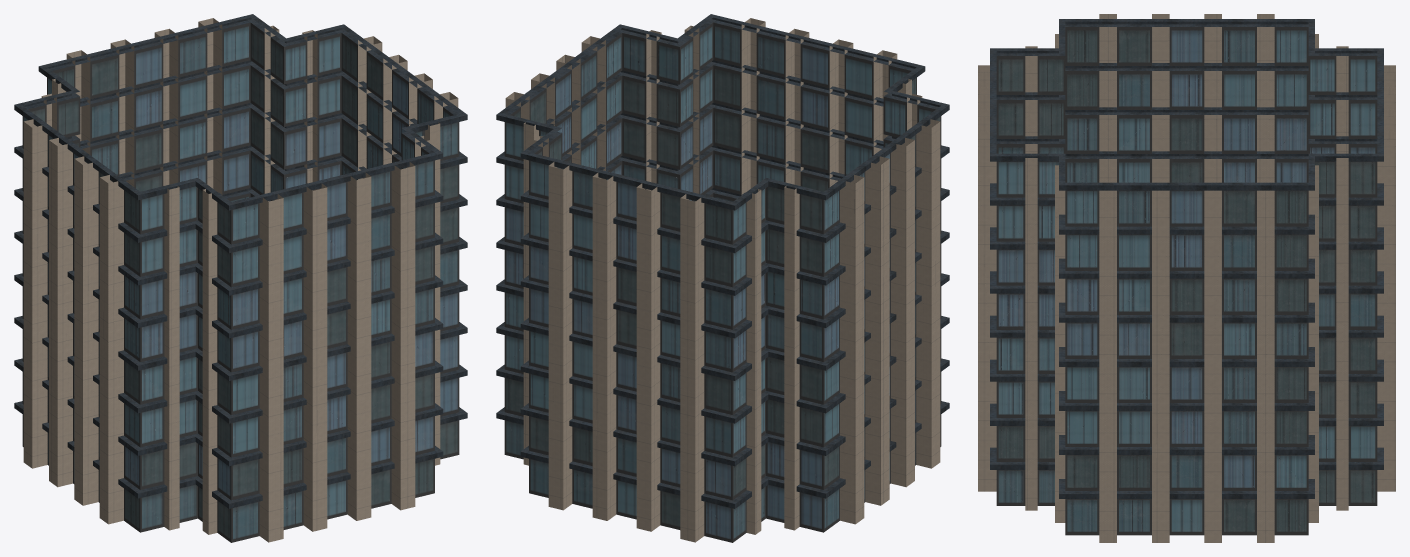
The model's file is jctBld24_B_mdl_low.fbx.
3 views of the same model, side by side, from view 1: azimuth 30°, elevation 25°; view 2: azimuth 150°, elevation 25°; view 3: azimuth 270°, elevation 25° (orthographic). The views are drawn at different scales.
Visible parts, largest first — view 1: jctBld24_B_mdl_low; view 2: jctBld24_B_mdl_low; view 3: jctBld24_B_mdl_low.
Boxes of the visible parts, bbox=[...] form: jctBld24_B_mdl_low: bbox=[14, 14, 467, 542]; jctBld24_B_mdl_low: bbox=[496, 14, 949, 542]; jctBld24_B_mdl_low: bbox=[978, 14, 1395, 542].
Bounding box in the file's own units: 2578 × 2400 × 2578.
